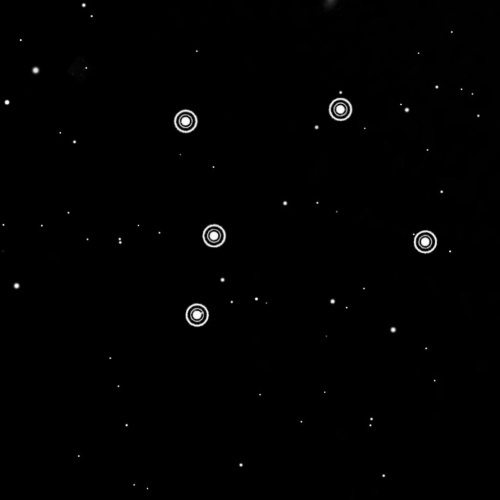libra: (168, 88, 439, 336)
